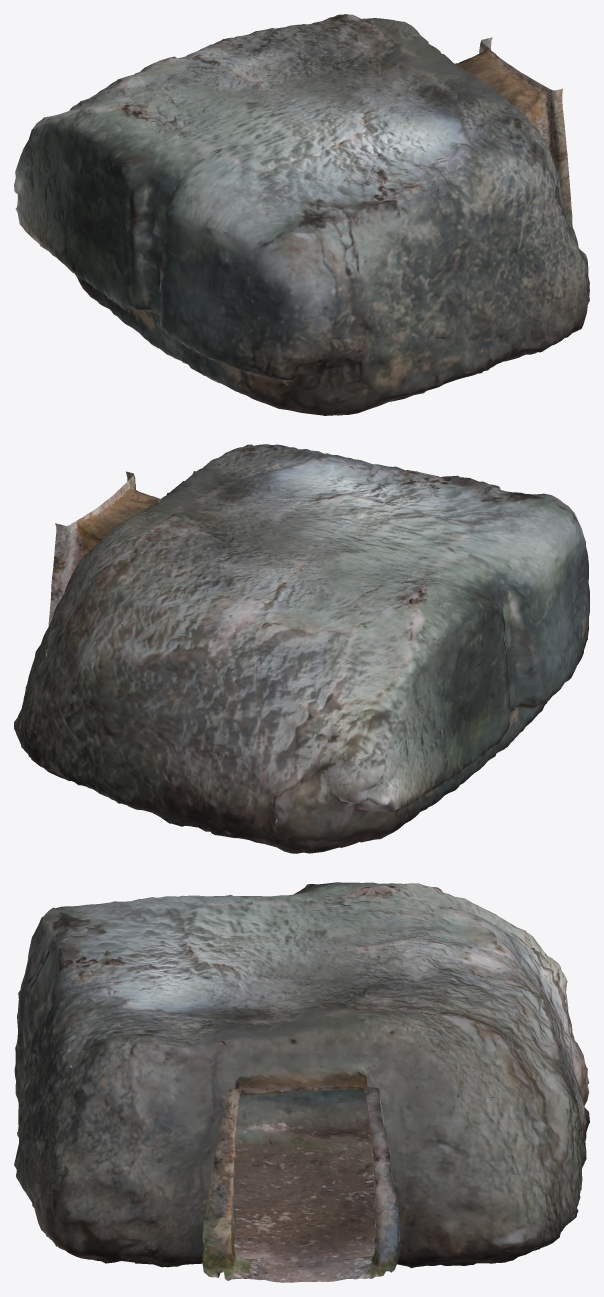
The model's file is Tafos11_Inside.fbx.
3 views of the same model, one above another, from view 1: azimuth 30°, elevation 25°; view 2: azimuth 150°, elevation 25°; view 3: azimuth 270°, elevation 25° (orthographic). The views are drawn at different scales.
Parts seen in each view (by area): view 1: Tafos11-vid23411; view 2: Tafos11-vid23411; view 3: Tafos11-vid23411.
Part boxes in pixels (x1,y1,x2,y2): Tafos11-vid23411: (14,14,589,415); Tafos11-vid23411: (14,444,589,853); Tafos11-vid23411: (14,882,589,1282).
Size of the model in its own units: 322 by 359 by 174.
